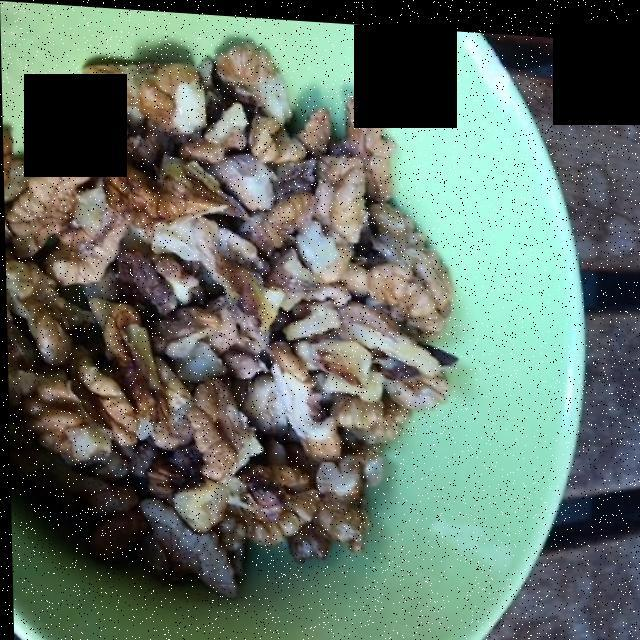walnut: (11, 43, 448, 574)
